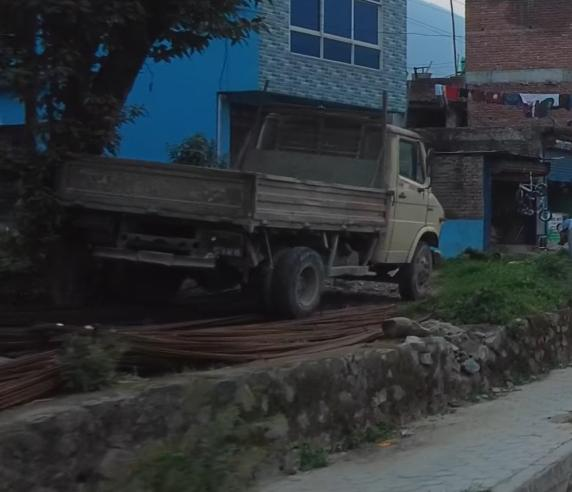mini_truck: (64, 96, 448, 308)
